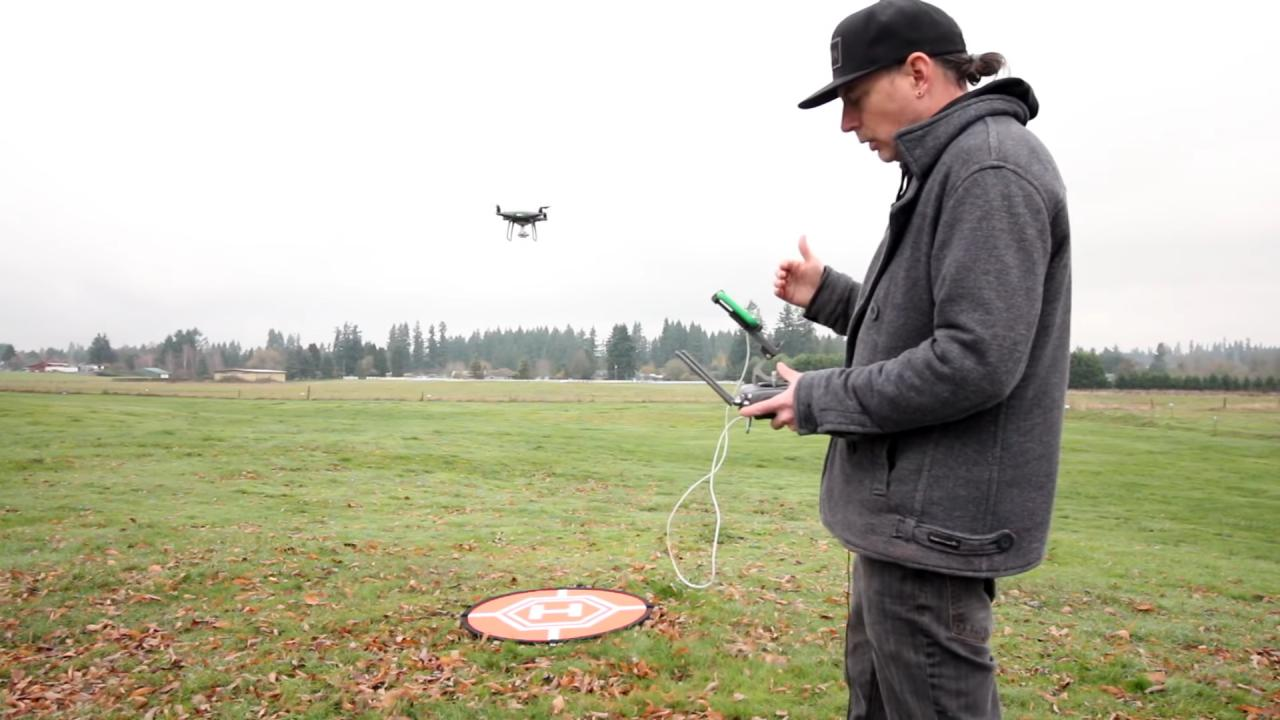Drone: (476, 191, 564, 252)
